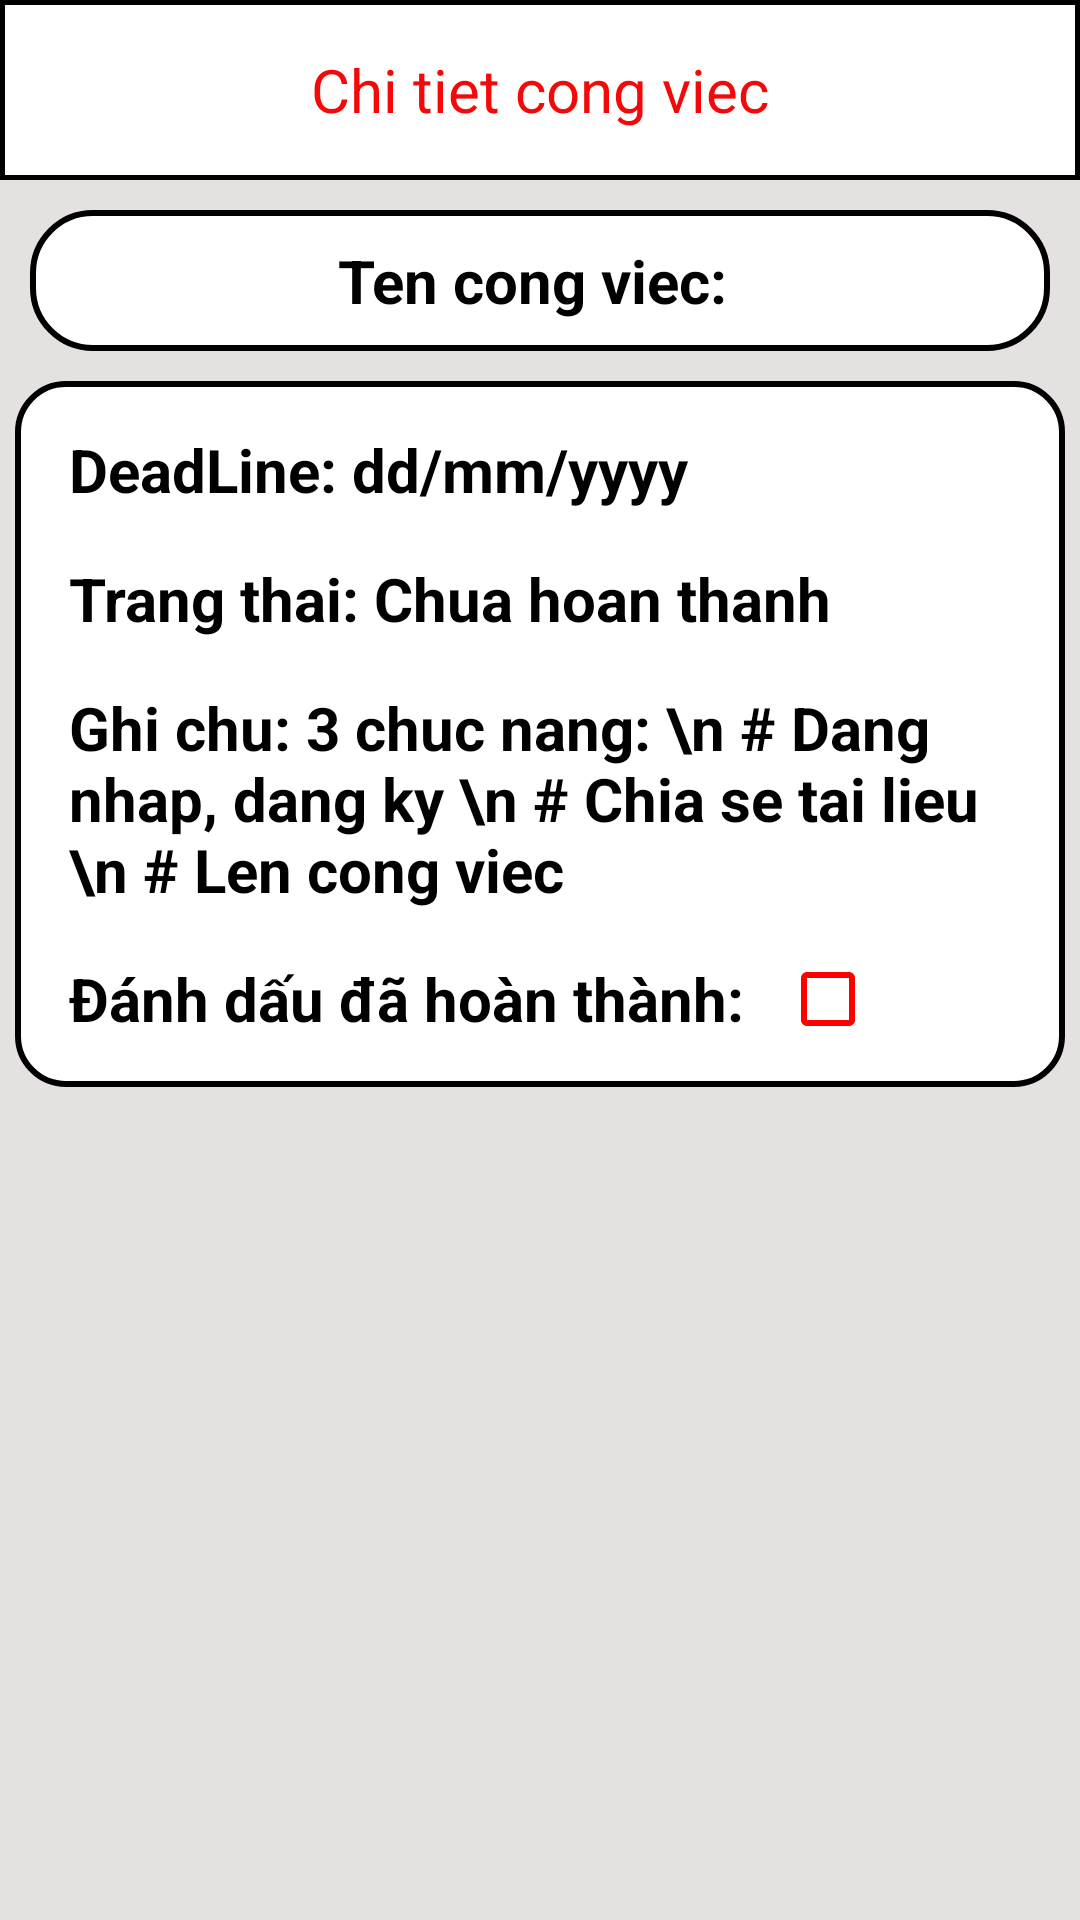

Named icons in this screenshot (1080px×1920px) and their centers, (x,y):
check blank: (828,999)
